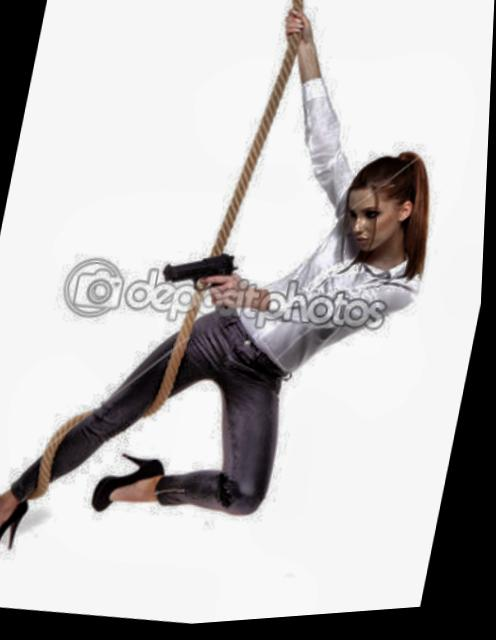pistol: (150, 237, 250, 330)
